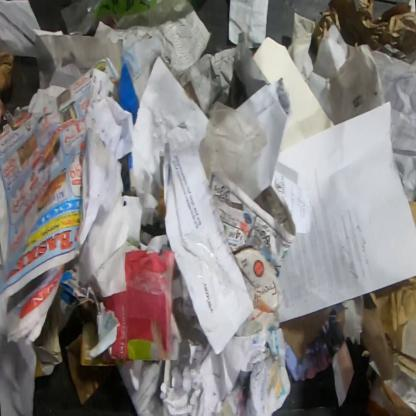cardboard: (312, 0, 415, 57), (362, 275, 415, 382), (233, 247, 284, 338), (64, 332, 116, 406), (279, 304, 335, 361), (0, 49, 14, 94), (407, 200, 415, 230)
soft_plastic: (200, 102, 269, 189), (59, 0, 193, 36)
